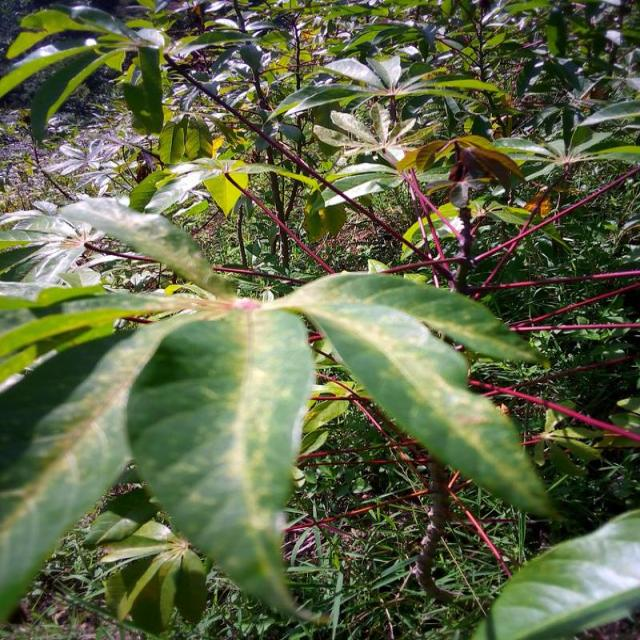cassava leaf: (266, 267, 566, 524), (125, 304, 328, 626)
